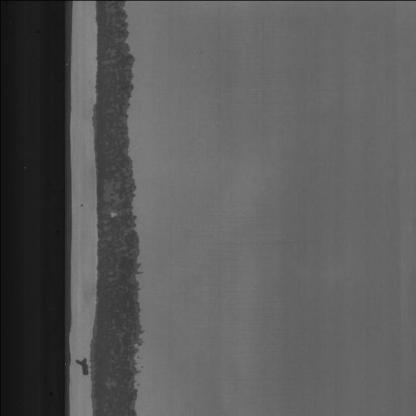oil_spot: (85, 6, 157, 416)
